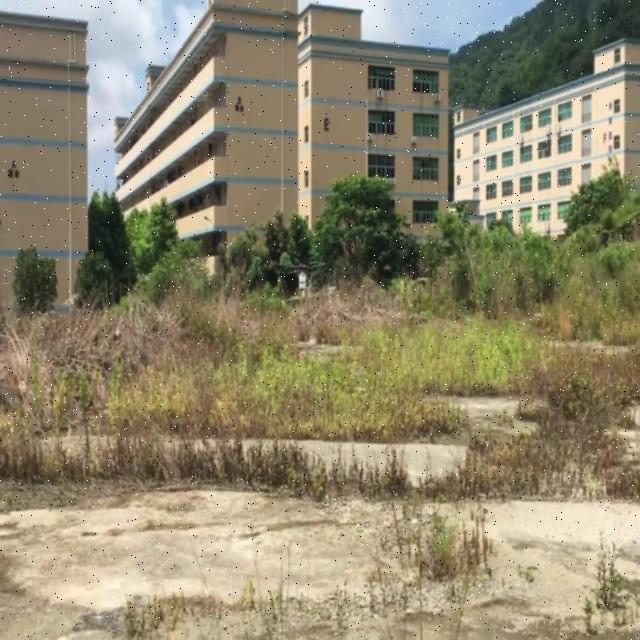UAV: (276, 262, 327, 289)
